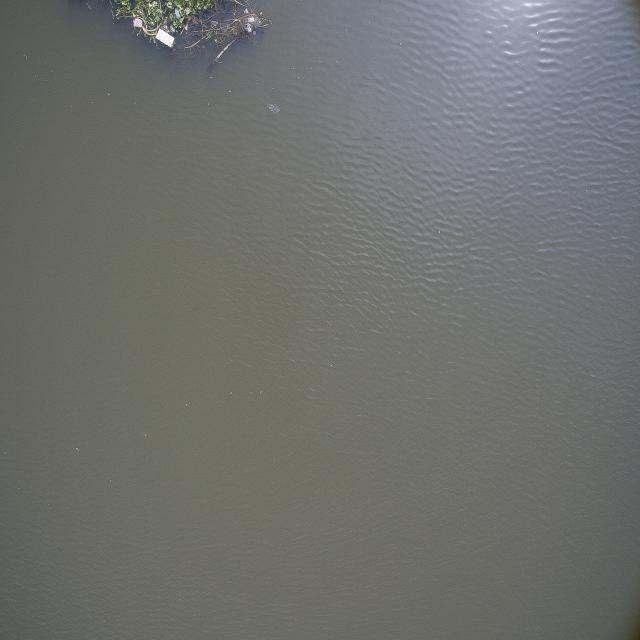plastic: (237, 8, 275, 41), (123, 10, 154, 42), (156, 24, 180, 54)
